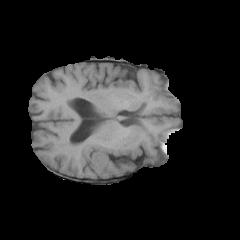glioma: (81, 138, 141, 171)
